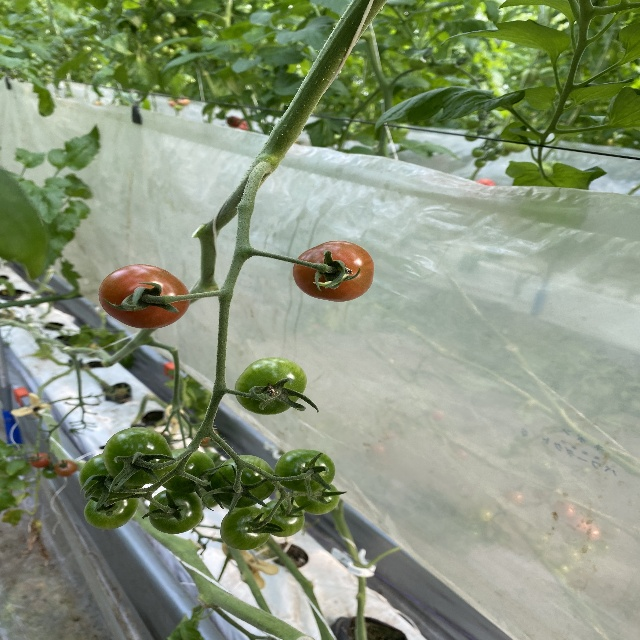l_fully_ripened: (97, 264, 190, 329), (292, 240, 375, 301)
l_green: (234, 356, 307, 416), (102, 427, 174, 486), (212, 454, 277, 508), (79, 452, 143, 500), (274, 449, 335, 493), (157, 449, 217, 493), (149, 489, 203, 535), (220, 505, 272, 551), (83, 492, 139, 531), (261, 500, 306, 537), (291, 482, 340, 515)
